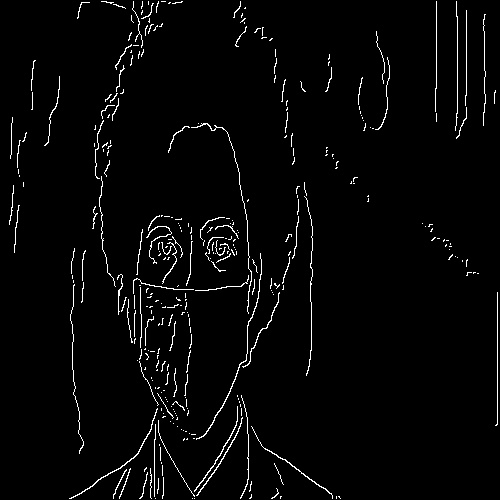mask: (118, 280, 255, 443)
